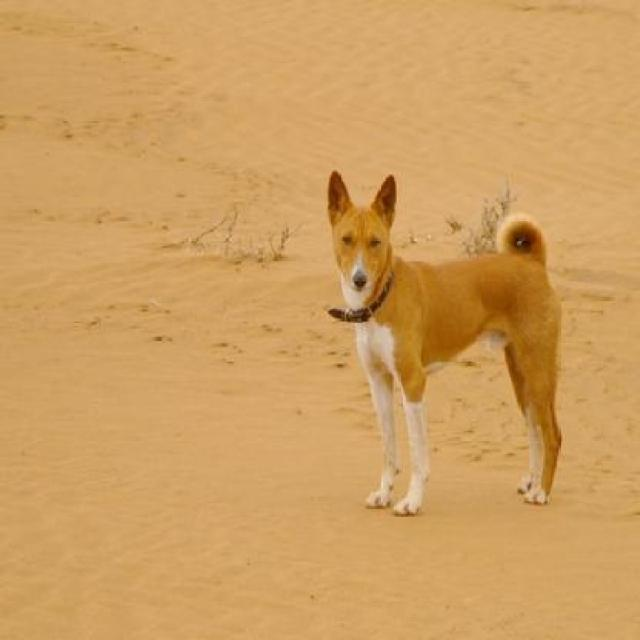animals: (310, 140, 588, 554)
